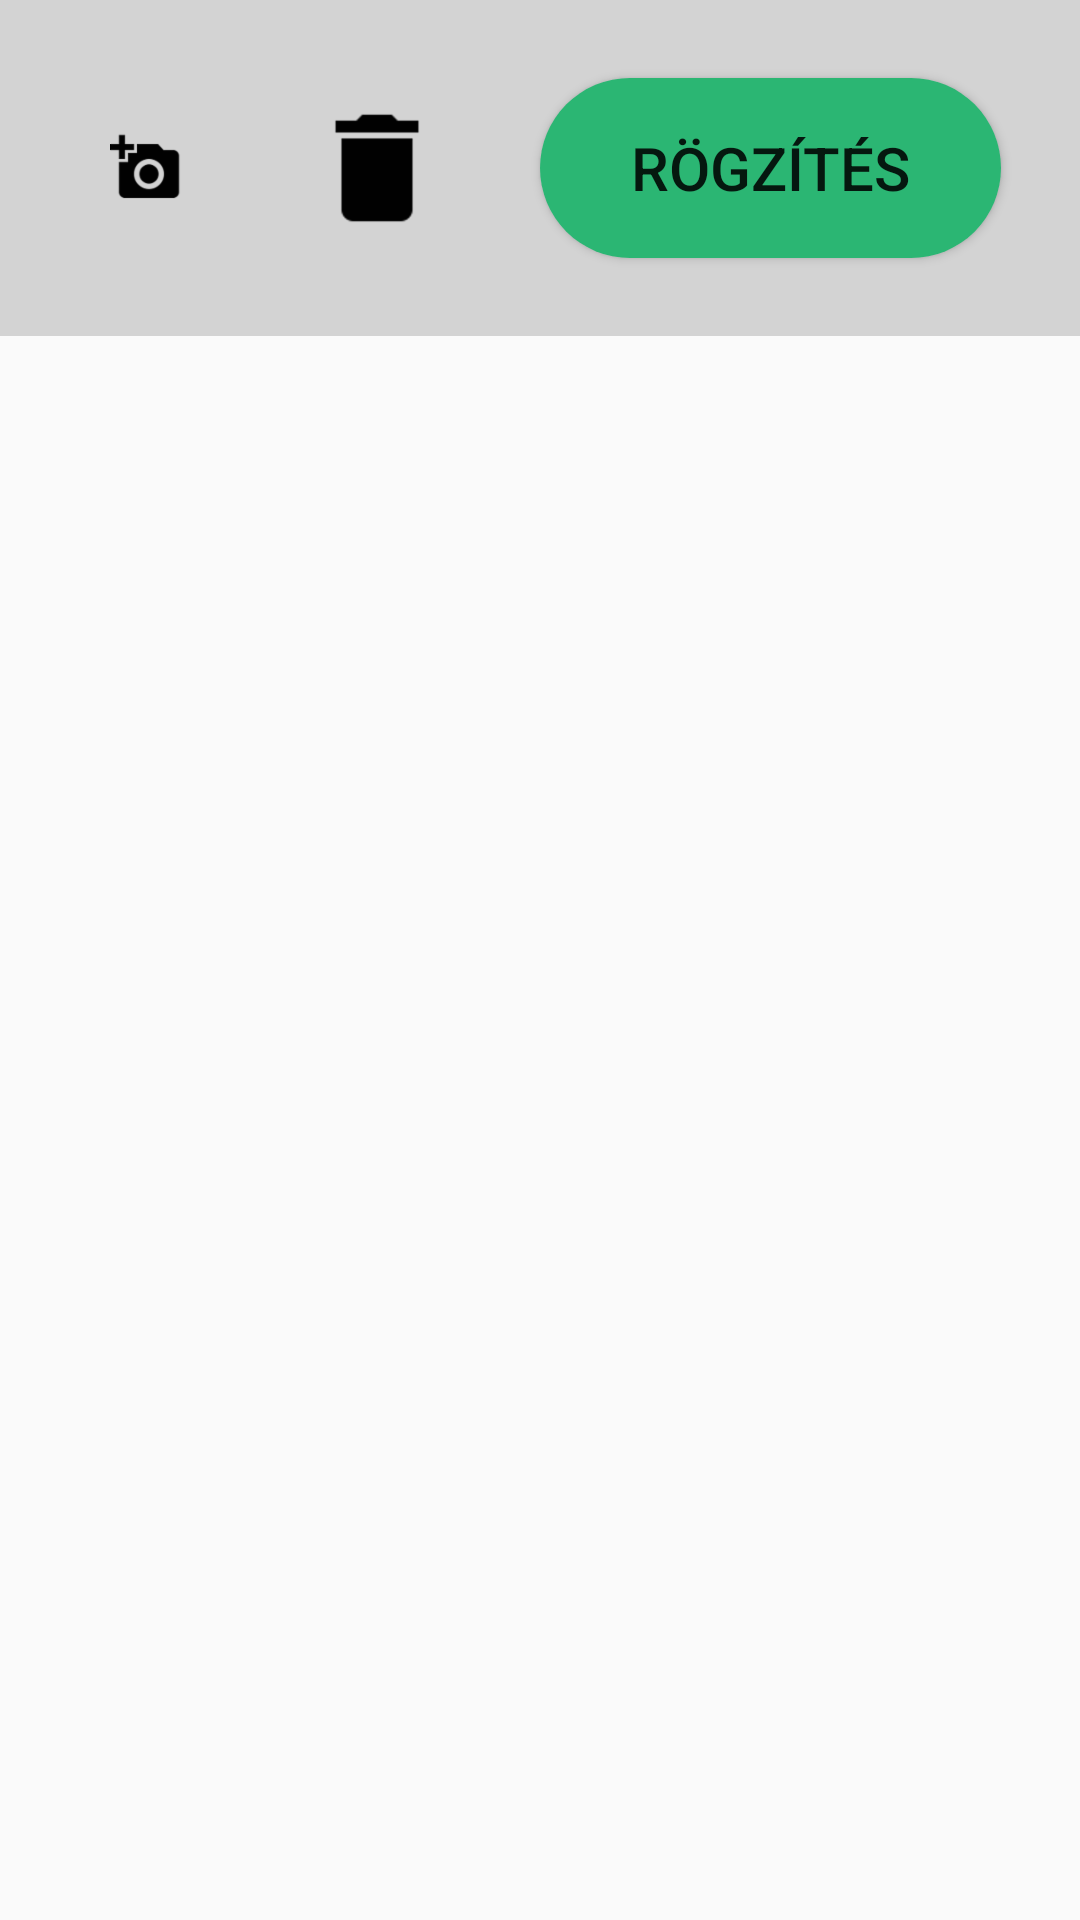

Icons on this 1080px×1920px Android screen, each with its box as box=[x1, y1, x2, y2]:
add photo: box=[110, 134, 180, 198]
delete: box=[335, 114, 419, 222]
